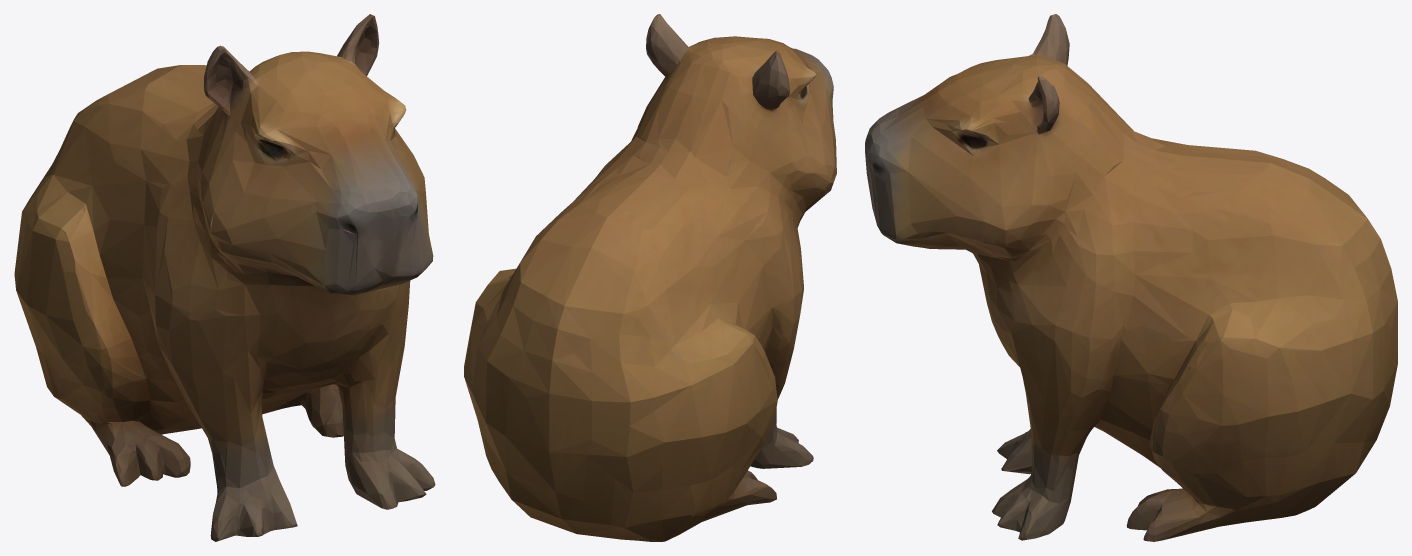
The model's file is m-capy.glb.
The picture shows the model from 3 angles, left to right: view 1: azimuth 30°, elevation 25°; view 2: azimuth 150°, elevation 25°; view 3: azimuth 270°, elevation 25°; orthographic projection. The views are drawn at different scales.
Parts seen in each view (by area): view 1: geometry_0; view 2: geometry_0; view 3: geometry_0.
Part boxes in pixels (left/top/right/bottom): geometry_0: left=14, top=14, right=435, bottom=541; geometry_0: left=464, top=14, right=836, bottom=541; geometry_0: left=865, top=14, right=1397, bottom=541.
Size of the model in its own units: 0.6337 by 0.9164 by 0.9978.
1 material, 1 textured.
